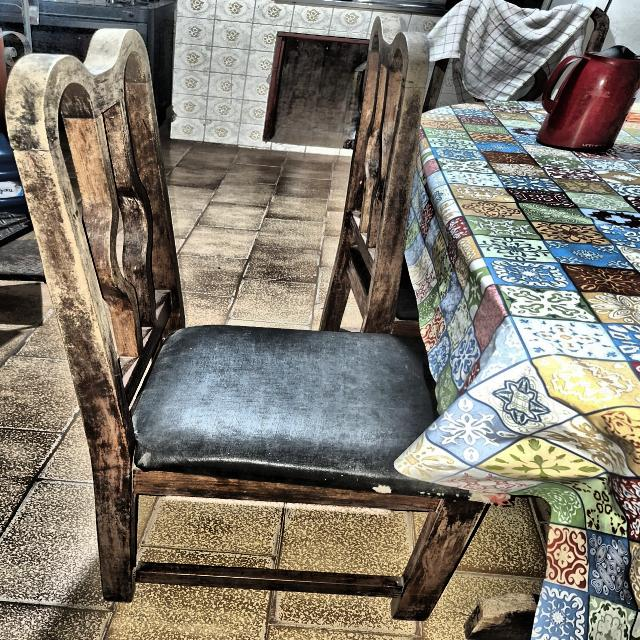cadeira: (0, 17, 440, 633)
